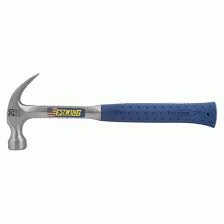hammer: (6, 72, 218, 151)
